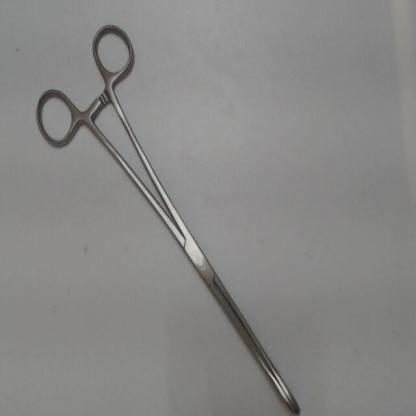Sponge Forceps: (30, 14, 308, 415)
